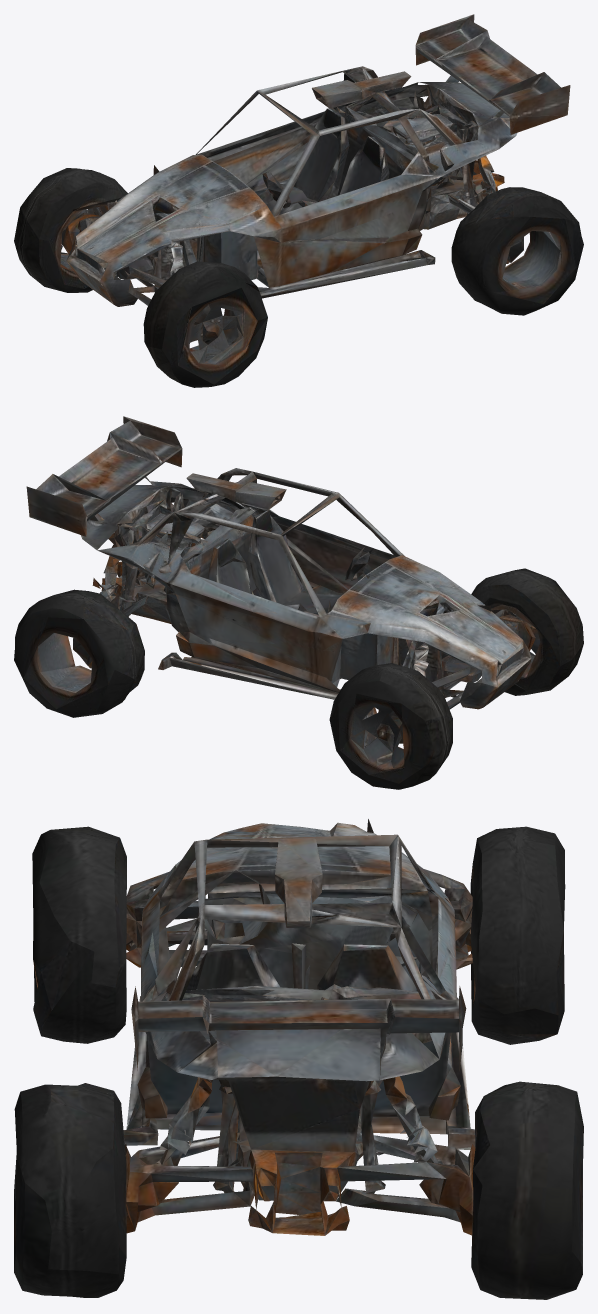
File: hopper-carcass.glb
3 renders of one model, top to bottom at view 1: azimuth 30°, elevation 25°; view 2: azimuth 150°, elevation 25°; view 3: azimuth 270°, elevation 25°, orthographic. The views are drawn at different scales.
Size of the model in its own units: 1.9 by 0.8306 by 1.26.
Materials: 1 (1 with a texture image).
